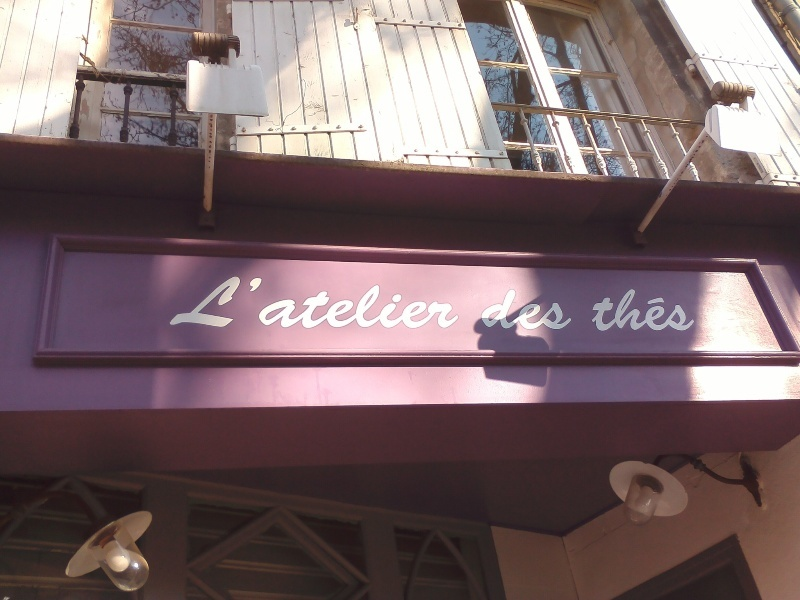text: (193, 269, 208, 336), (209, 269, 224, 336), (225, 269, 240, 336), (241, 269, 256, 336), (257, 269, 272, 336), (273, 269, 288, 336), (289, 269, 304, 336), (305, 269, 320, 336), (321, 269, 336, 336), (337, 269, 352, 336), (353, 269, 368, 336), (369, 269, 384, 336), (385, 269, 400, 336), (401, 269, 416, 336), (417, 269, 432, 336), (433, 269, 448, 336), (449, 269, 461, 336), (181, 269, 192, 336), (481, 285, 496, 334), (497, 285, 512, 334), (513, 285, 528, 334), (529, 285, 544, 334), (545, 285, 560, 334), (593, 287, 608, 335), (609, 287, 624, 335), (625, 287, 640, 335), (641, 287, 656, 335), (657, 287, 672, 335), (673, 287, 688, 335), (561, 285, 574, 334), (689, 287, 700, 335), (591, 287, 592, 335)
